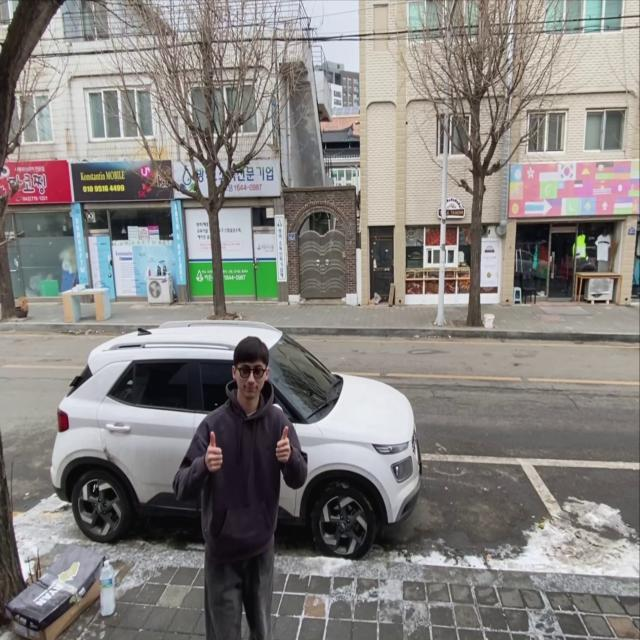bare_hand: (204, 429, 224, 472), (270, 422, 290, 464)
